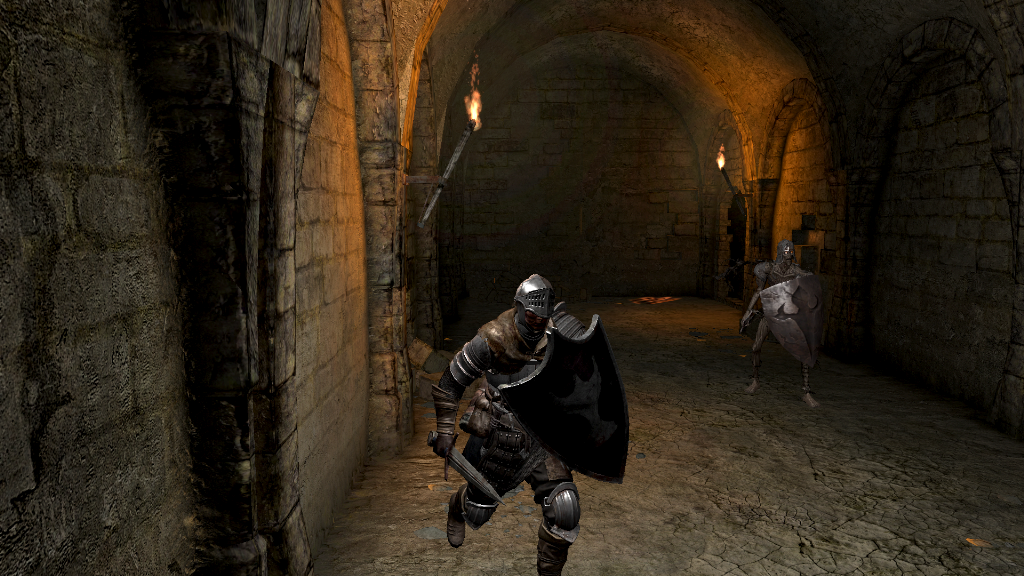player: (429, 273, 631, 576)
undeadSoldier: (740, 239, 822, 411)
